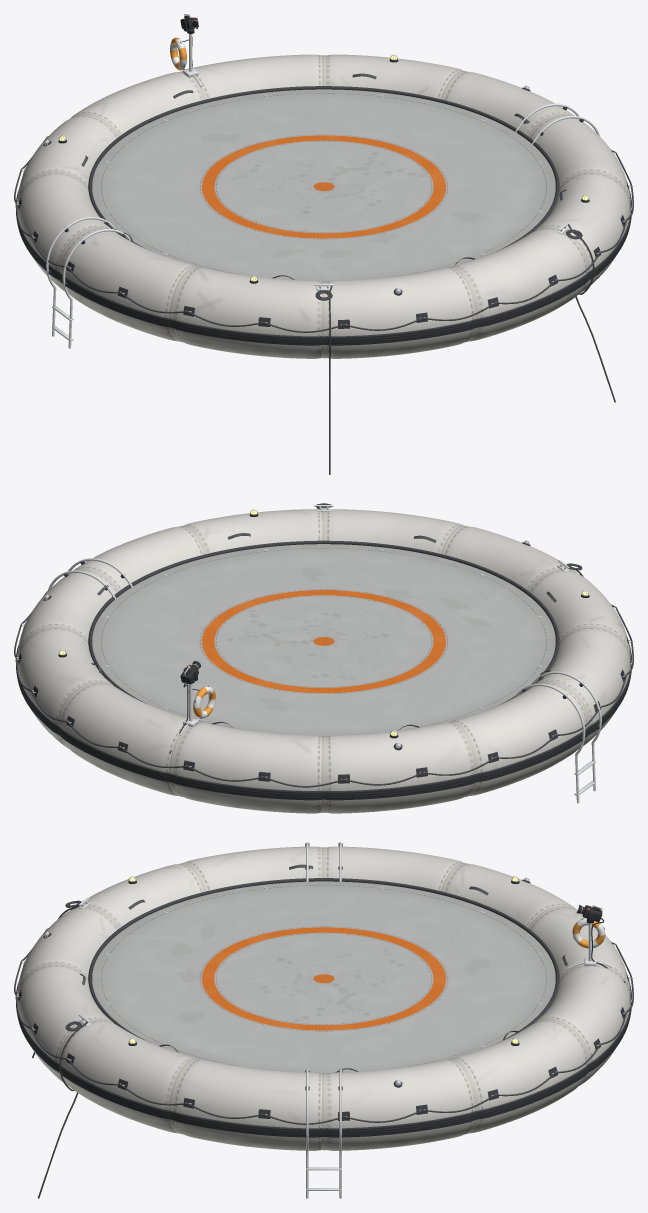
Rendered from landing_float.glb.
3 views of the same model, one above another, from view 1: azimuth 30°, elevation 25°; view 2: azimuth 150°, elevation 25°; view 3: azimuth 270°, elevation 25° (orthographic).
Visible parts, largest first — view 1: Pad, Tube, Rubber, Rope, Piping, Metal, SeamTape; view 2: Pad, Tube, Rubber, Piping, Metal, SeamTape, Rope; view 3: Pad, Tube, Rubber, Piping, Rope, SeamTape, Metal.
Part boxes in pixels (x1,y1,x2,y2): Pad: (92, 89, 555, 281); Tube: (17, 54, 630, 358); Rubber: (16, 58, 631, 345); Rope: (14, 39, 633, 474); Piping: (88, 86, 559, 248); Metal: (17, 14, 630, 348); SeamTape: (18, 55, 629, 358); Pad: (92, 544, 555, 736); Tube: (17, 509, 630, 813); Rubber: (16, 513, 631, 800); Piping: (88, 540, 559, 703); Metal: (16, 505, 631, 803); SeamTape: (18, 511, 629, 812); Rope: (14, 503, 633, 787); Pad: (92, 881, 555, 1073); Tube: (17, 846, 630, 1150); Rubber: (16, 843, 631, 1137); Piping: (88, 878, 559, 1042); Rope: (14, 900, 633, 1198); SeamTape: (18, 847, 629, 1150); Metal: (17, 842, 630, 1198).
Bounding box in the file's own units: 8.25 × 3.24 × 8.22.
15 materials, 2 textured.
